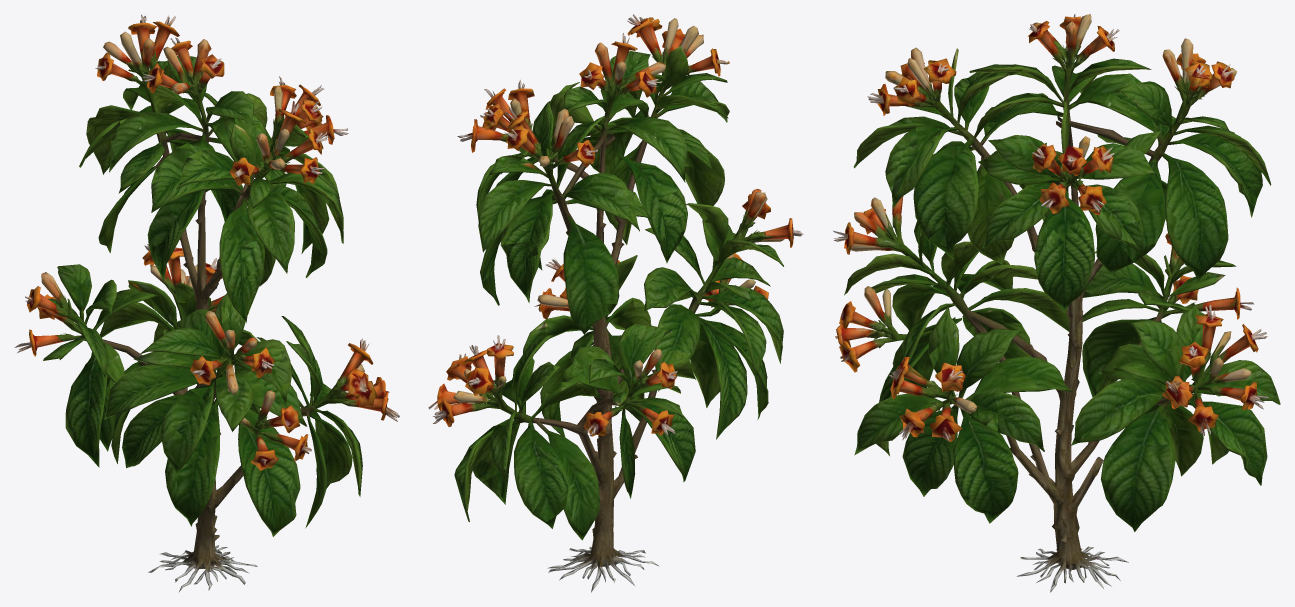
Rendered from planta_tipo_1.fbx.
3 renders of one model, left to right at view 1: azimuth 30°, elevation 25°; view 2: azimuth 150°, elevation 25°; view 3: azimuth 270°, elevation 25°, orthographic. The views are drawn at different scales.
Parts seen in each view (by area): view 1: tripo_node_422541ca; view 2: tripo_node_422541ca; view 3: tripo_node_422541ca.
Part boxes in pixels (left/top/right/bottom): tripo_node_422541ca: left=14, top=14, right=399, bottom=591; tripo_node_422541ca: left=428, top=14, right=803, bottom=592; tripo_node_422541ca: left=833, top=14, right=1280, bottom=592.
Size of the model in its own units: 6.18 by 11.82 by 8.72.
1 material, 1 textured.
